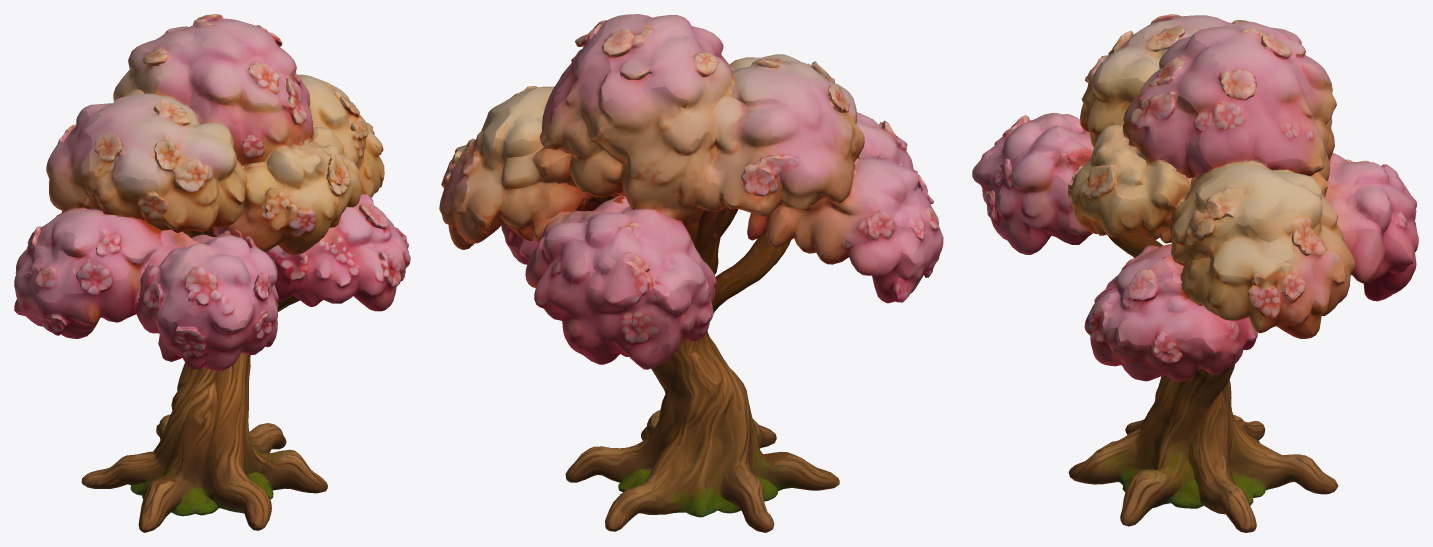
File: 02_tree_blossom_sky.glb
3 renders of one model, left to right at view 1: azimuth 30°, elevation 25°; view 2: azimuth 150°, elevation 25°; view 3: azimuth 270°, elevation 25°, orthographic. The views are drawn at different scales.
Parts seen in each view (by area): view 1: textured_mesh.obj; view 2: textured_mesh.obj; view 3: textured_mesh.obj.
Part boxes in pixels (<box>): textured_mesh.obj: <box>14,14,410,532</box>; textured_mesh.obj: <box>439,14,943,532</box>; textured_mesh.obj: <box>972,14,1418,532</box>.
Size of the model in its own units: 1.87 by 1.96 by 1.7.
Materials: 1 (1 with a texture image).
